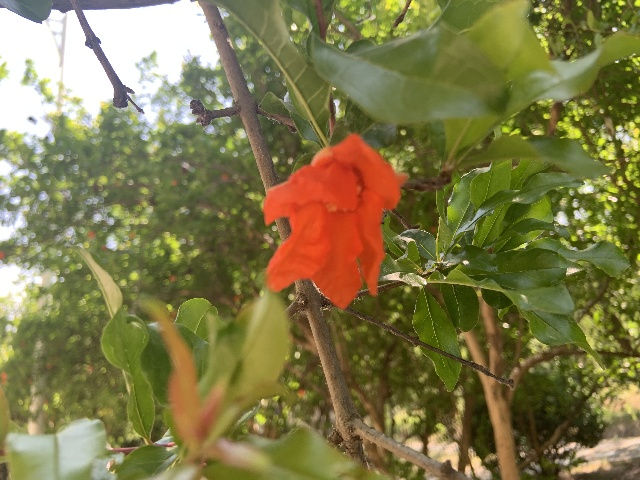flower: (262, 132, 406, 309)
